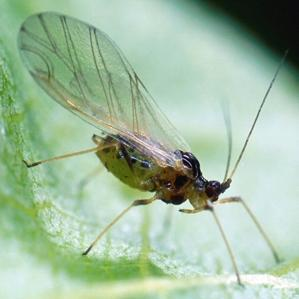Green peach aphid: (8, 9, 285, 279)
